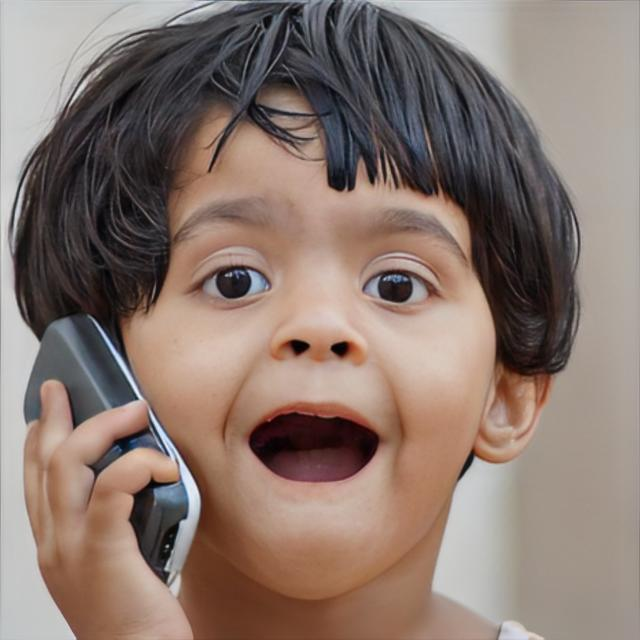surprise: (119, 84, 498, 602)
